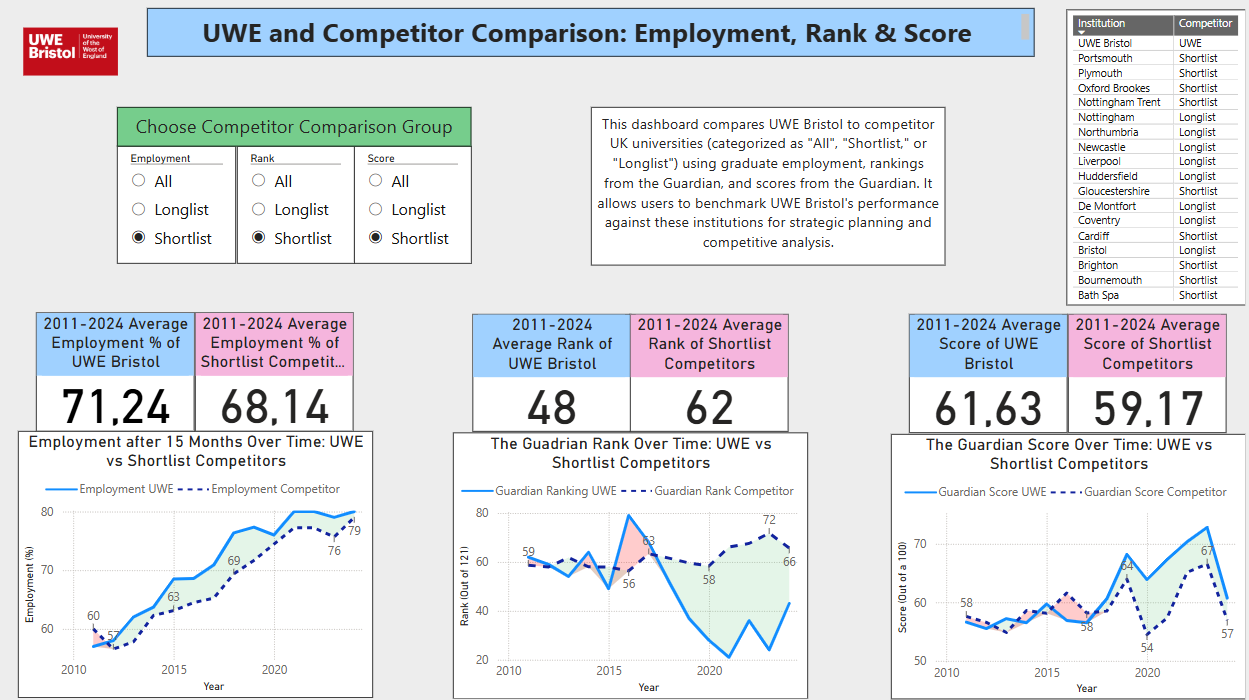

What the dashboard file says about the page in this screenshot:
{"tool":"powerbi","page":{"name":"Page 1","canvas":[1280,720],"ordinal":0},"visuals":[{"type":"lineChart","fields":{"Category":["Institution Level Data.Year"],"Y":["UWE Competition.Avg Employment UWE","Measure Selection.Selected Measure Value"]},"box":[17.5,441.7,360,270.4],"z":0},{"type":"lineChart","fields":{"Category":["Institution Level Data.Year"],"Y":["UWE Competition.Avg Guardian Ranking UWE","Rank Selection.Selected Rank Measure Value"]},"box":[459.7,442.2,360,270.4],"z":1000},{"type":"lineChart","fields":{"Category":["Institution Level Data.Year"],"Y":["UWE Competition.Avg Guardian Score UWE","Score Selection.Selected Score Measure Value"]},"box":[903.5,443.8,360,270],"z":2000},{"type":"slicer","fields":{"Values":["Measure Selection.Measure"]},"box":[119.3,152.7,120.9,119.3],"z":3000},{"type":"slicer","fields":{"Values":["Score Selection.Score"]},"box":[359.5,152.7,119.3,119.3],"z":4000},{"type":"slicer","fields":{"Values":["Rank Selection.Rank"]},"box":[240.2,152.7,119.3,119.3],"z":5000},{"type":"tableEx","fields":{"Values":["UWE Competition.Institution","UWE Competition.Competitor"]},"box":[1081.7,13.3,181.7,300],"z":6000},{"type":"card","title":"2011-2024 Average Score of UWE Bristol","fields":{"Values":["UWE Competition.Avg Guardian Score UWE"]},"box":[922.6,322.9,160.7,120.9],"z":7000},{"type":"card","fields":{"Values":["Score Selection.Selected Score Measure Value"]},"box":[1083.2,322.9,160.7,120.9],"z":8000},{"type":"card","title":" 2011-2024 Average Rank of UWE Bristol","fields":{"Values":["UWE Competition.Avg Guardian Ranking UWE"]},"box":[478.8,322.9,160.7,119.3],"z":9000},{"type":"card","fields":{"Values":["Rank Selection.Selected Rank Measure Value"]},"box":[639.4,322.9,160.7,119.3],"z":10000},{"type":"card","title":"2011-2024 Average Employment % of UWE Bristol","fields":{"Values":["UWE Competition.Avg Employment UWE"]},"box":[36.6,321.3,160.7,120.9],"z":11000},{"type":"card","fields":{"Values":["Employment Selection.Selected Employment Measure Value"]},"box":[197.2,321.3,160.7,120.9],"z":12000},{"type":"image","box":[17.5,0,106.6,112.9],"z":13000},{"type":"textbox","box":[149.5,12.7,900.3,49.3],"z":14000},{"type":"textbox","box":[119.3,112.9,359.5,39.8],"z":15000},{"type":"textbox","box":[599.7,112.9,359.5,160.7],"z":16000},{"type":"shape","box":[1081.7,38.3,181.7,275],"z":17000}]}

Visuals, with their boxes in screenshot pixels (x1, y1, x2, y2), scaled from the page's 1280x720 canvas onto the 1249x700 screenshot:
lineChart - Institution Level Data.Year x UWE Competition.Avg Employment UWE: [17, 429, 368, 692]
lineChart - Institution Level Data.Year x UWE Competition.Avg Guardian Ranking UWE: [449, 430, 800, 693]
lineChart - Institution Level Data.Year x UWE Competition.Avg Guardian Score UWE: [882, 431, 1233, 694]
slicer - Measure Selection.Measure: [116, 148, 234, 264]
slicer - Score Selection.Score: [351, 148, 467, 264]
slicer - Rank Selection.Rank: [234, 148, 351, 264]
tableEx - UWE Competition.Institution x UWE Competition.Competitor: [1056, 13, 1233, 305]
"2011-2024 Average Score of UWE Bristol" card: [900, 314, 1057, 431]
card - Score Selection.Selected Score Measure Value: [1057, 314, 1214, 431]
" 2011-2024 Average Rank of UWE Bristol" card: [467, 314, 624, 430]
card - Rank Selection.Selected Rank Measure Value: [624, 314, 781, 430]
"2011-2024 Average Employment % of UWE Bristol" card: [36, 312, 193, 430]
card - Employment Selection.Selected Employment Measure Value: [192, 312, 349, 430]
image: [17, 0, 121, 110]
textbox: [146, 12, 1024, 60]
textbox: [116, 110, 467, 148]
textbox: [585, 110, 936, 266]
shape: [1056, 37, 1233, 305]
